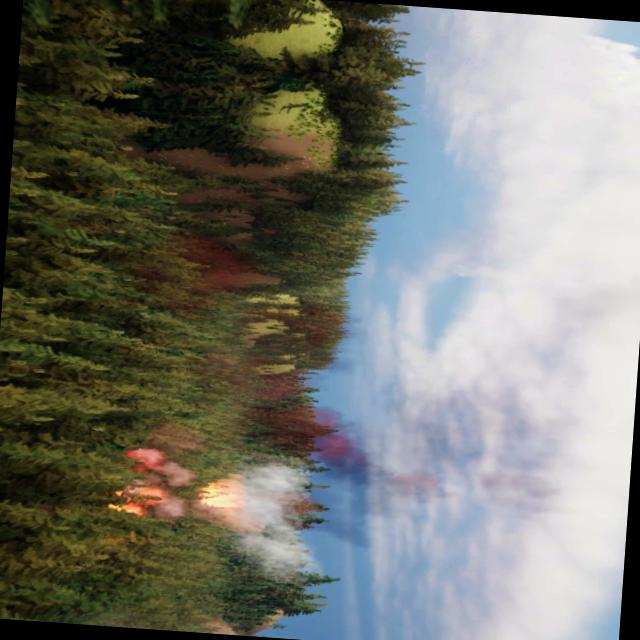fire: (102, 482, 159, 521), (200, 476, 238, 515)
smoke: (224, 376, 448, 532)
